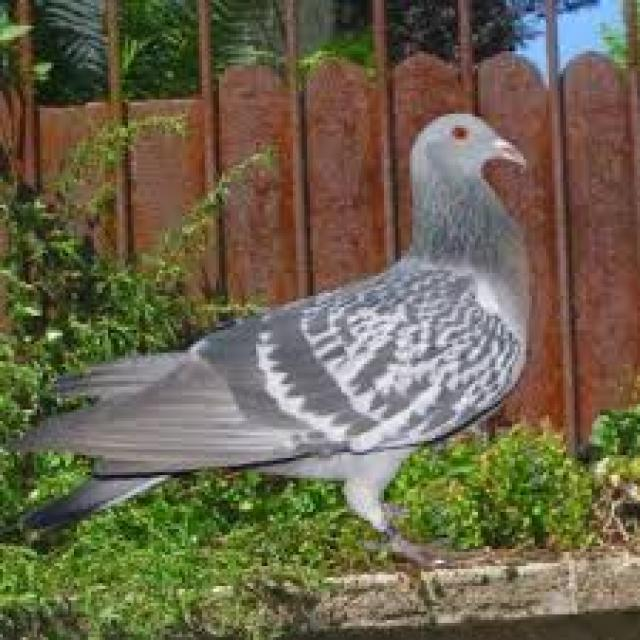pigeon: (20, 101, 569, 579)
